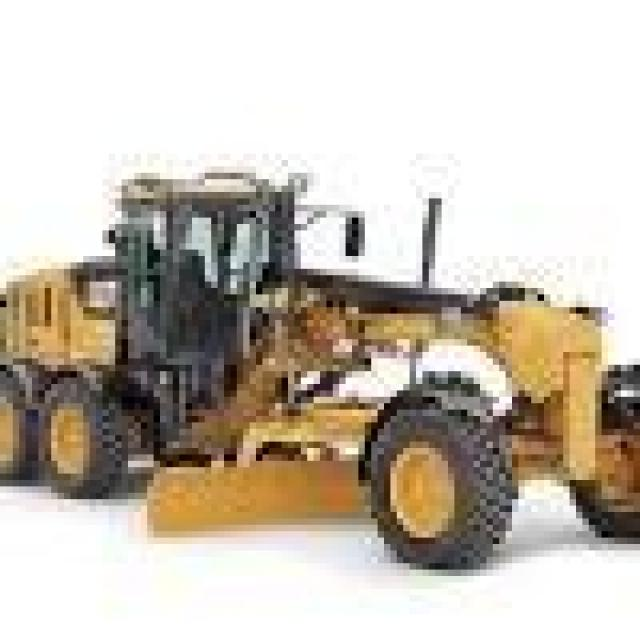Grader: (6, 140, 634, 602)
